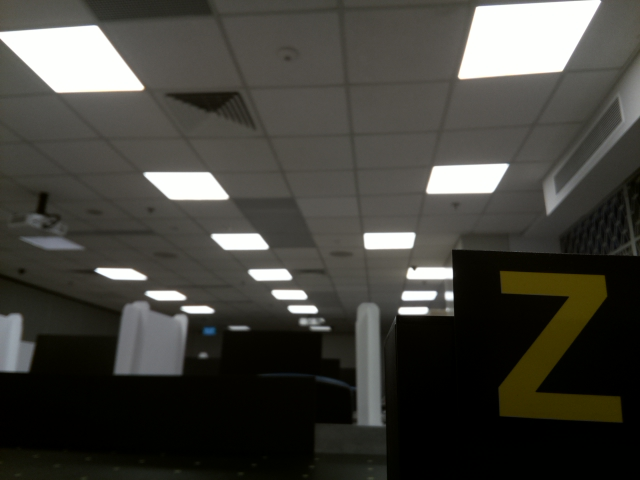z: (486, 261, 628, 432)
